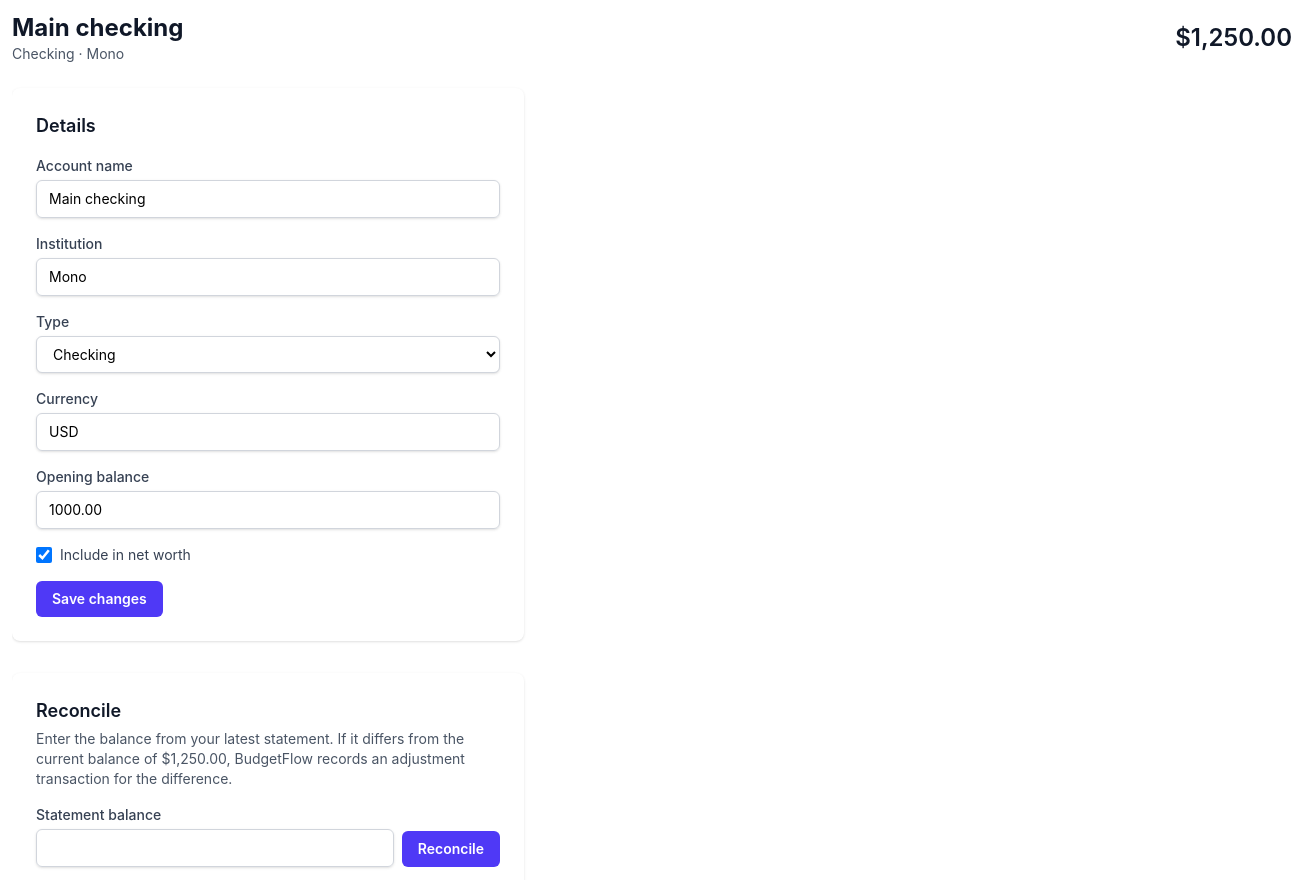
Scenario: AccountDetailPage › reconciles against a statement balance and reports the adjustment
The image size is (1304, 880).
Type "1200.00" into the field labelled "Statement balance".
click(215, 848); type("1200.00")  # box [36,829,394,867]
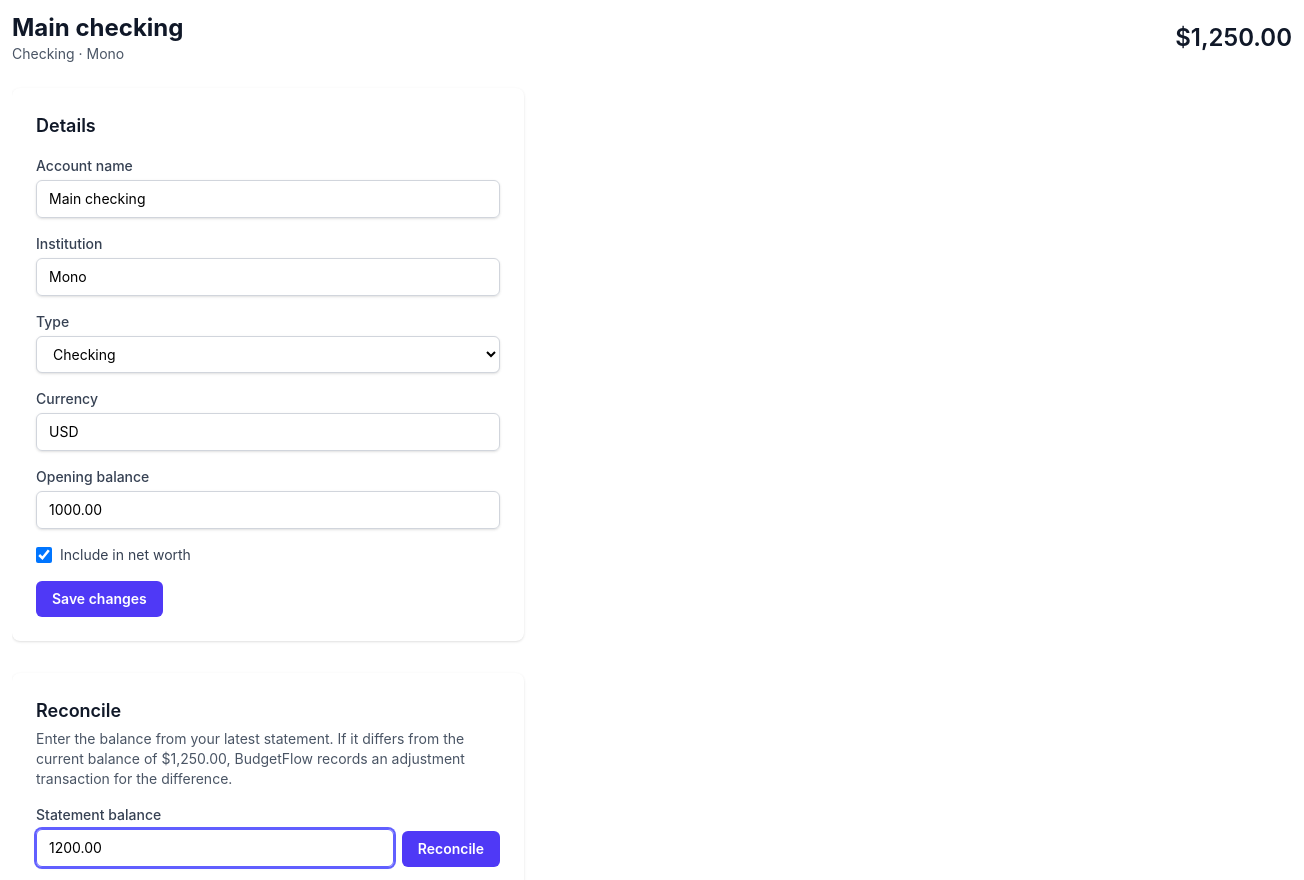
Click the button "Reconcile".
click(451, 849)  # box [402,831,500,867]
(page scrolled)
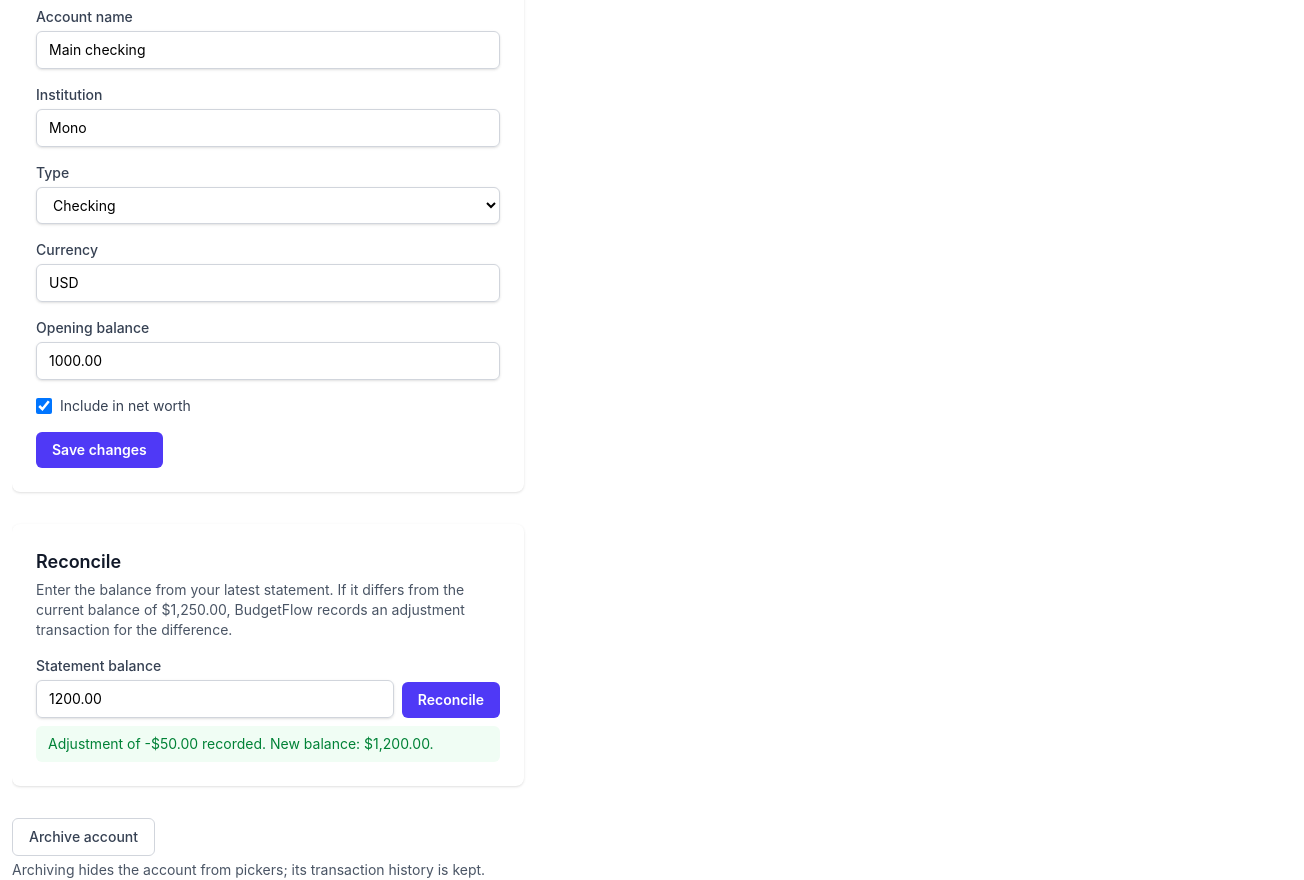
Check: the message reads "Adjustment of -$50.00 recorded. New balance: $1,200.00.", box [48,735,434,752]
